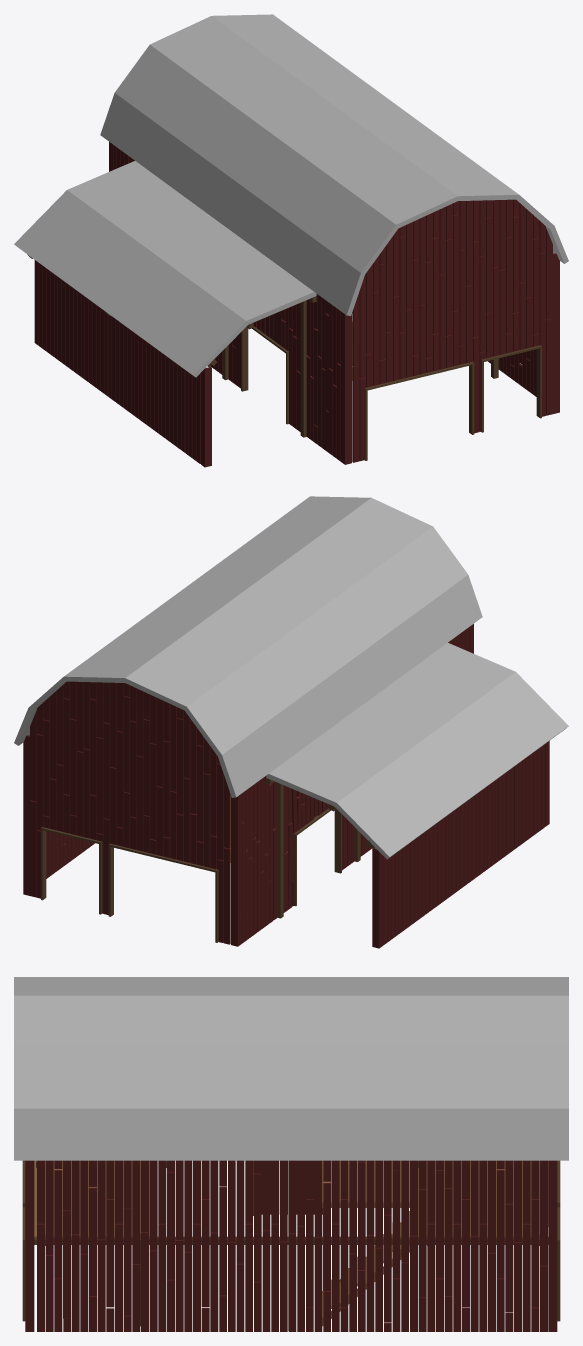
File: MOD_BarnNEW_UVTest.fbx
3 renders of one model, top to bottom at view 1: azimuth 30°, elevation 25°; view 2: azimuth 150°, elevation 25°; view 3: azimuth 270°, elevation 25°, orthographic. The views are drawn at different scales.
Parts seen in each view (by area): view 1: Barn_New_UV; view 2: Barn_New_UV; view 3: Barn_New_UV.
Boxes of the visible parts, x1,y1,x2,y2 form: Barn_New_UV: (14, 14, 568, 467); Barn_New_UV: (14, 496, 568, 948); Barn_New_UV: (14, 977, 568, 1331).
Bounding box in the file's own units: 2823 × 1940 × 3520.
